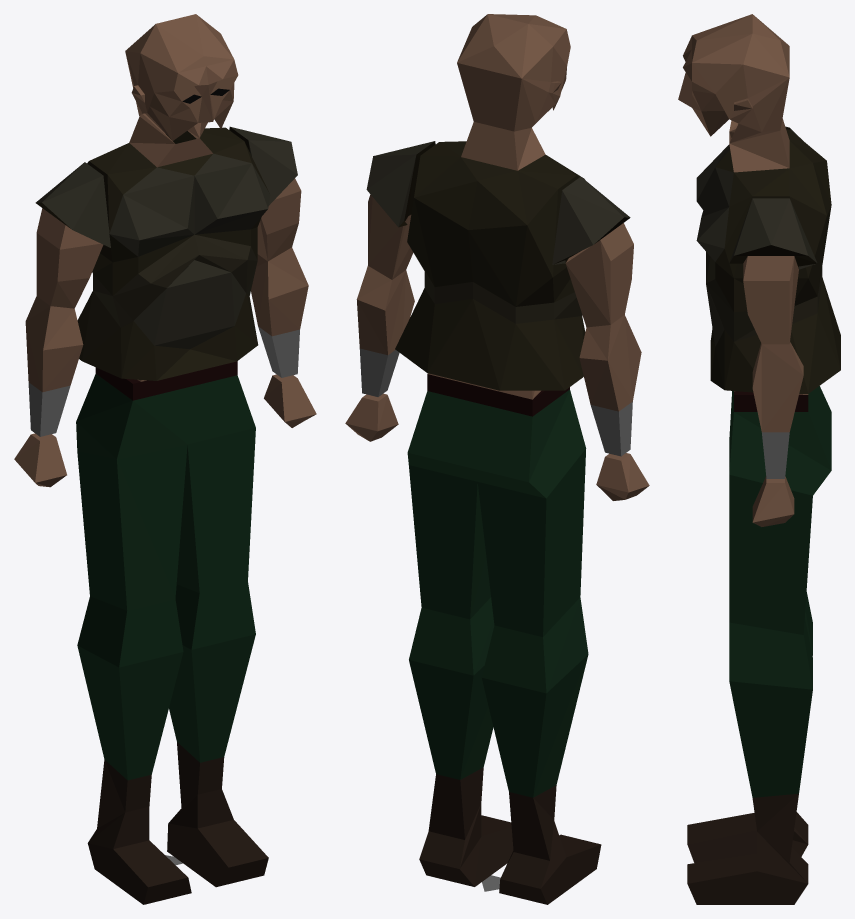
The model's file is character7.obj.
3 views of the same model, side by side, from view 1: azimuth 30°, elevation 25°; view 2: azimuth 150°, elevation 25°; view 3: azimuth 270°, elevation 25° (orthographic).
Bounding box in the file's own units: 70 × 202 × 35.
